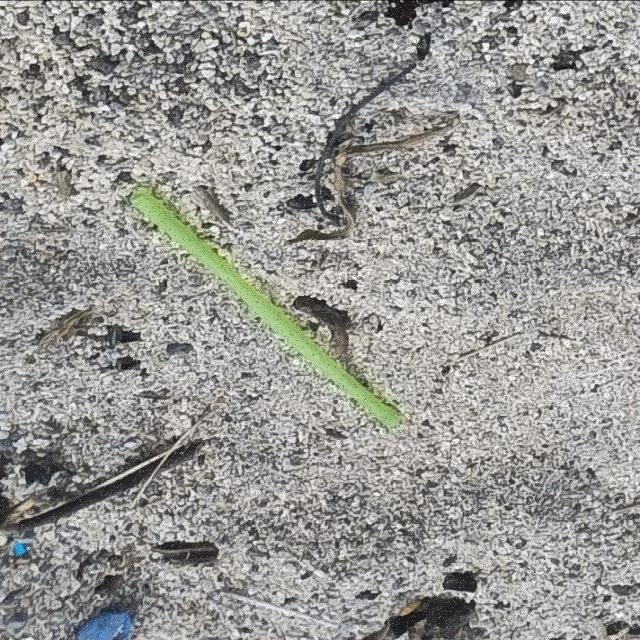plastic_waste: (130, 191, 405, 431)
